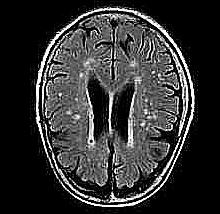Normal_Brain: (1, 1, 203, 214)
